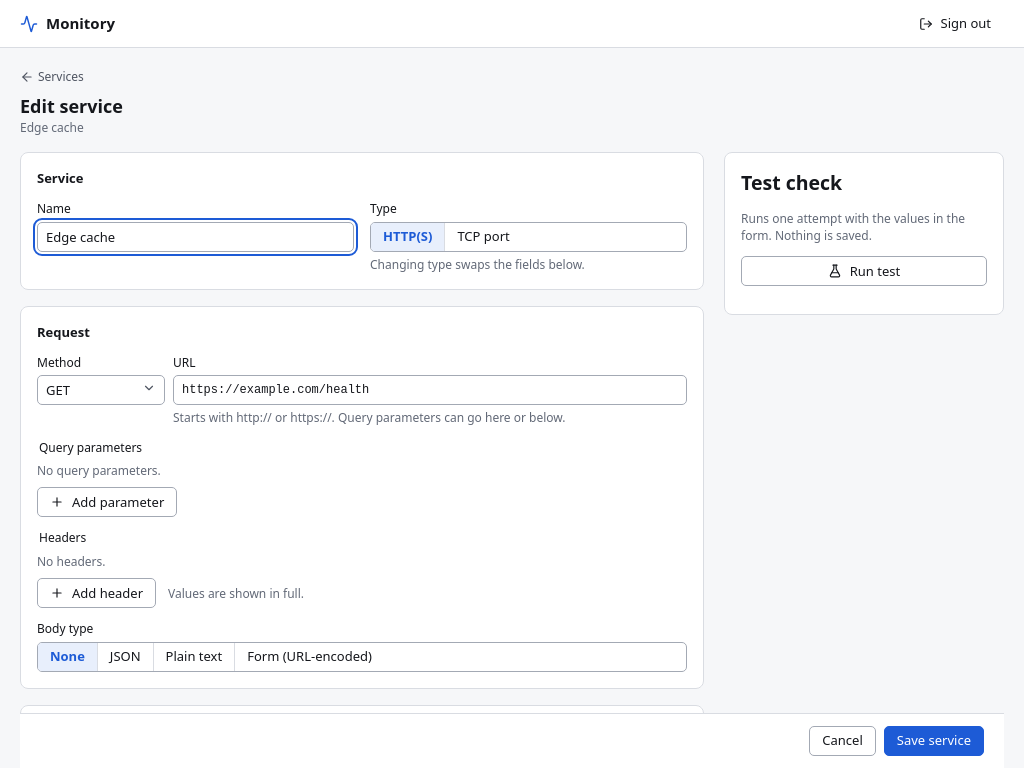
Test case: App routes › signed in: a 401 on saving a changed edit form ends on the sign-in form with the notice, no dialog and no banner (FR-4)
Type " two" into the field labelled "Name" at (196, 237), box 37,222 -> 354,252
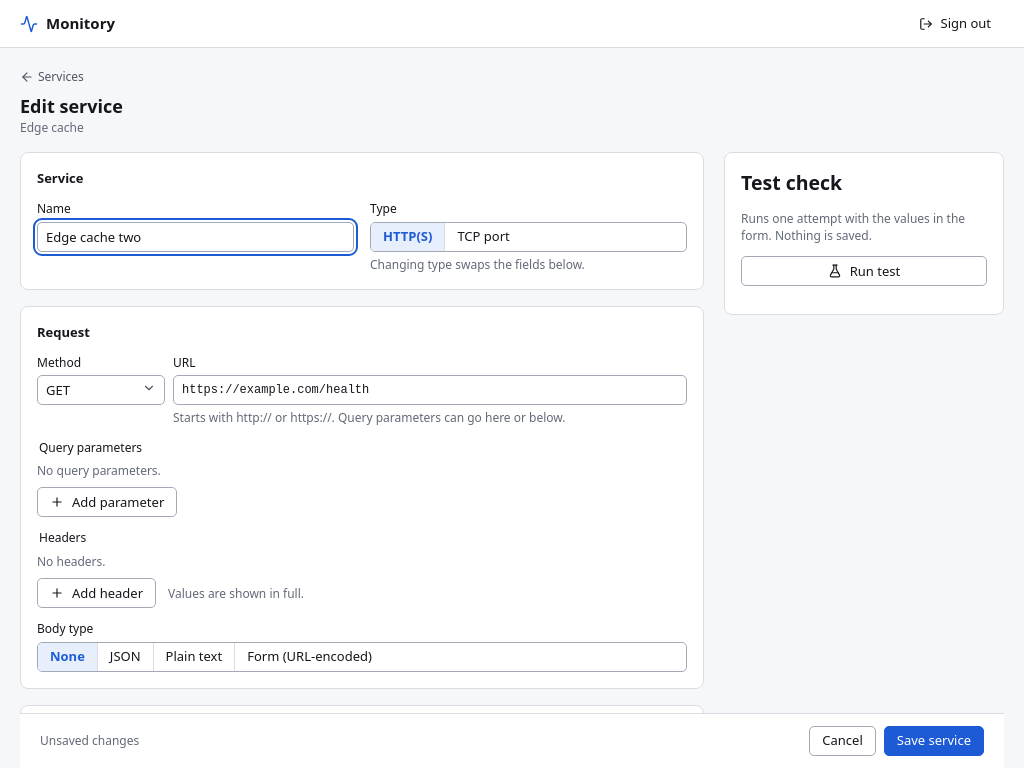
Click the button "Save service" at (934, 741), box 884,726 -> 984,756
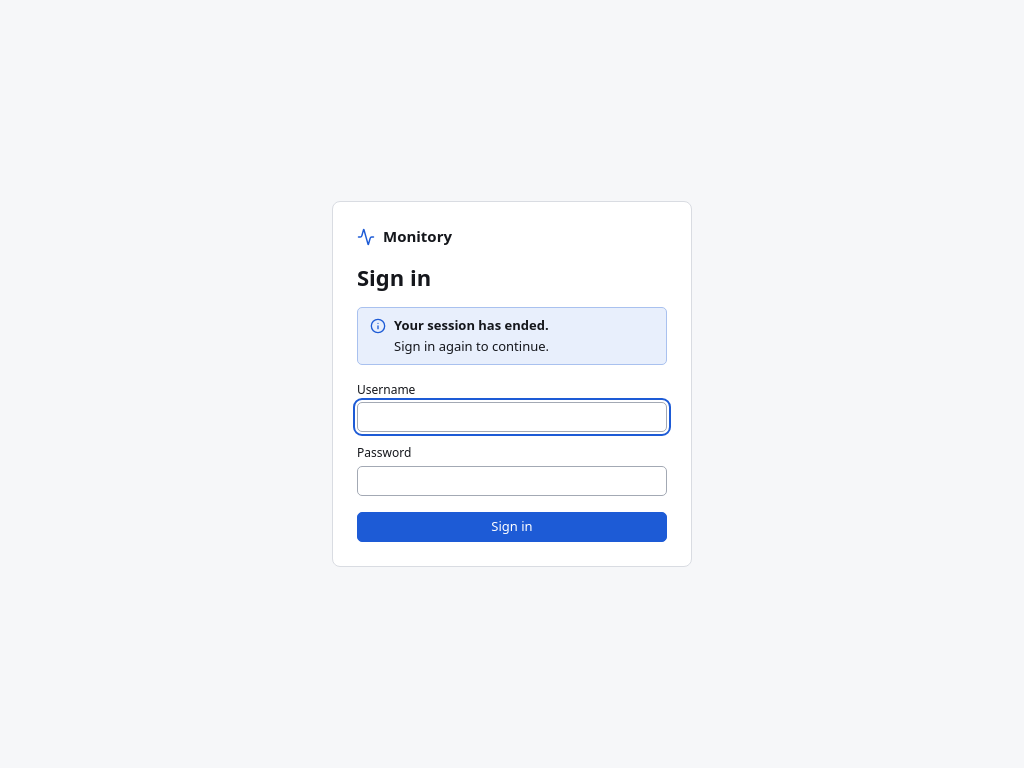
Now the heading "Sign in" is shown, box 357,262 -> 431,292
Now the text "Your session has ended." is shown, box 394,316 -> 549,334
